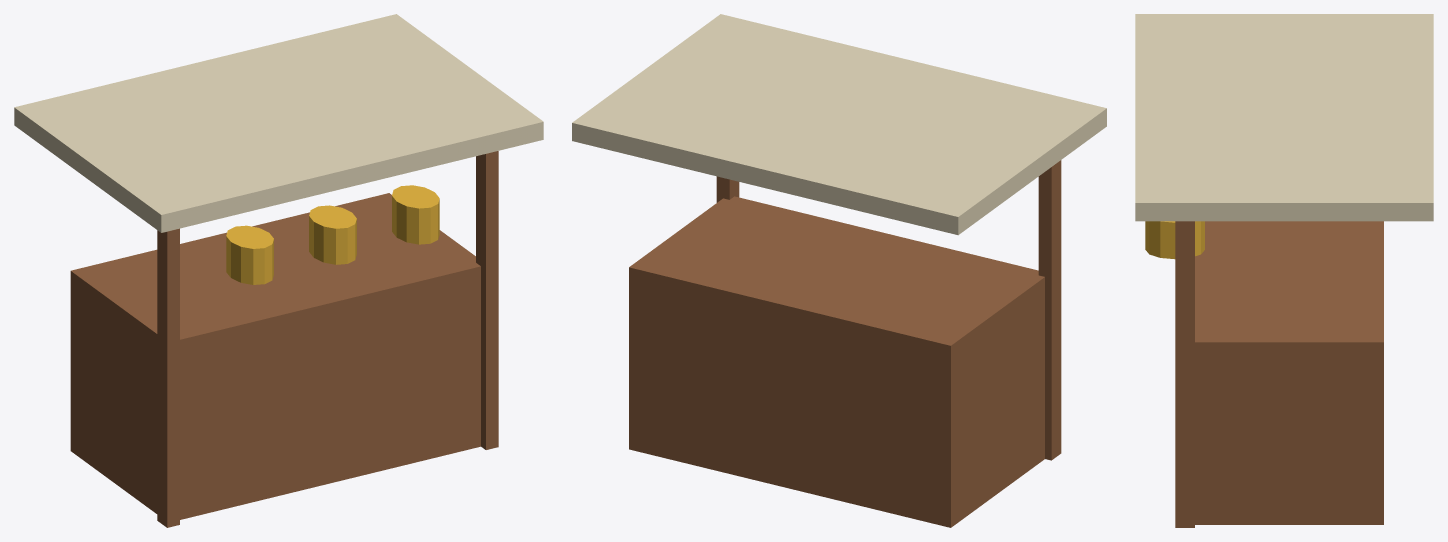
Rendered from board_mascate.glb.
The picture shows the model from 3 angles, left to right: view 1: azimuth 30°, elevation 25°; view 2: azimuth 150°, elevation 25°; view 3: azimuth 270°, elevation 25°; orthographic projection.
Parts seen in each view (by area): view 1: board_mascate; view 2: board_mascate; view 3: board_mascate.
Part boxes in pixels (x1,y1,x2,y2): board_mascate: [14, 14, 543, 527]; board_mascate: [572, 14, 1106, 527]; board_mascate: [1135, 14, 1433, 527].
Bounding box in the file's own units: 6 × 5 × 4.
